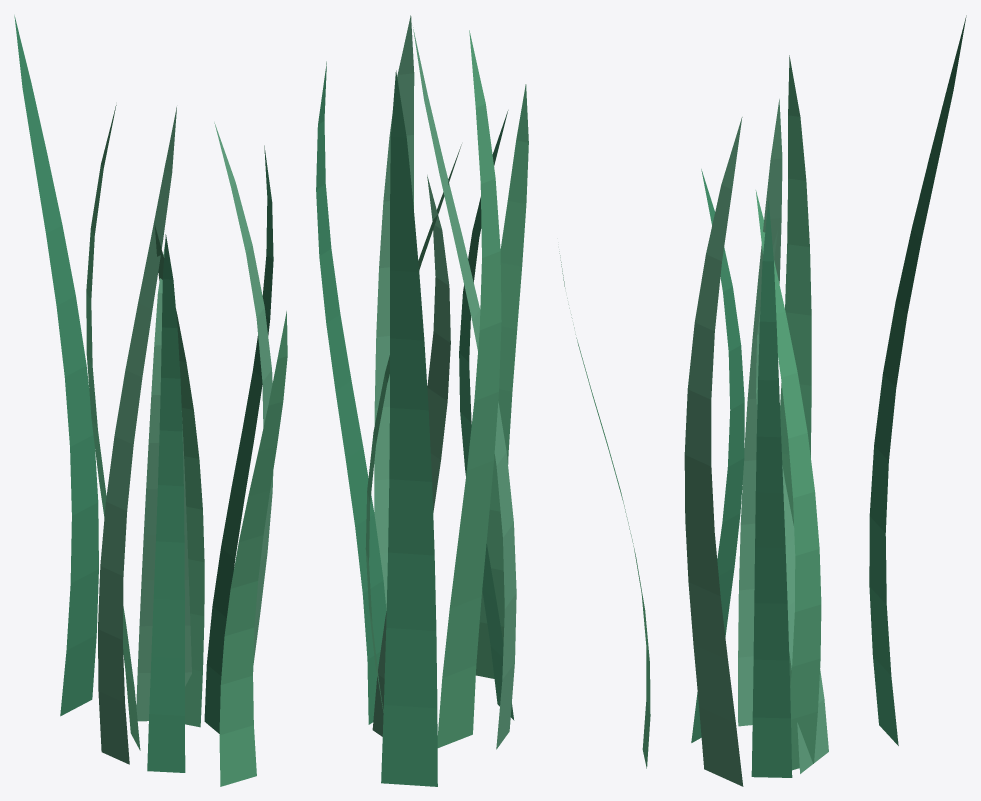
File: hazard_kelp.glb
The picture shows the model from 3 angles, left to right: view 1: azimuth 30°, elevation 25°; view 2: azimuth 150°, elevation 25°; view 3: azimuth 270°, elevation 25°; orthographic projection. The views are drawn at different scales.
Visible parts, largest first — view 1: hazard_kelp; view 2: hazard_kelp; view 3: hazard_kelp.
Part boxes in pixels (bbox=[...]): hazard_kelp: bbox=[14, 15, 287, 786]; hazard_kelp: bbox=[316, 15, 528, 786]; hazard_kelp: bbox=[559, 15, 966, 786].
Bounding box in the file's own units: 0.696 × 2.63 × 1.38.
